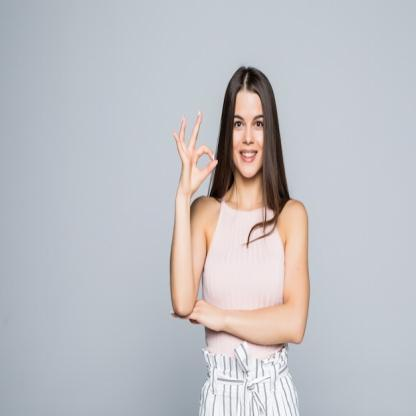ok: (170, 107, 218, 192)
